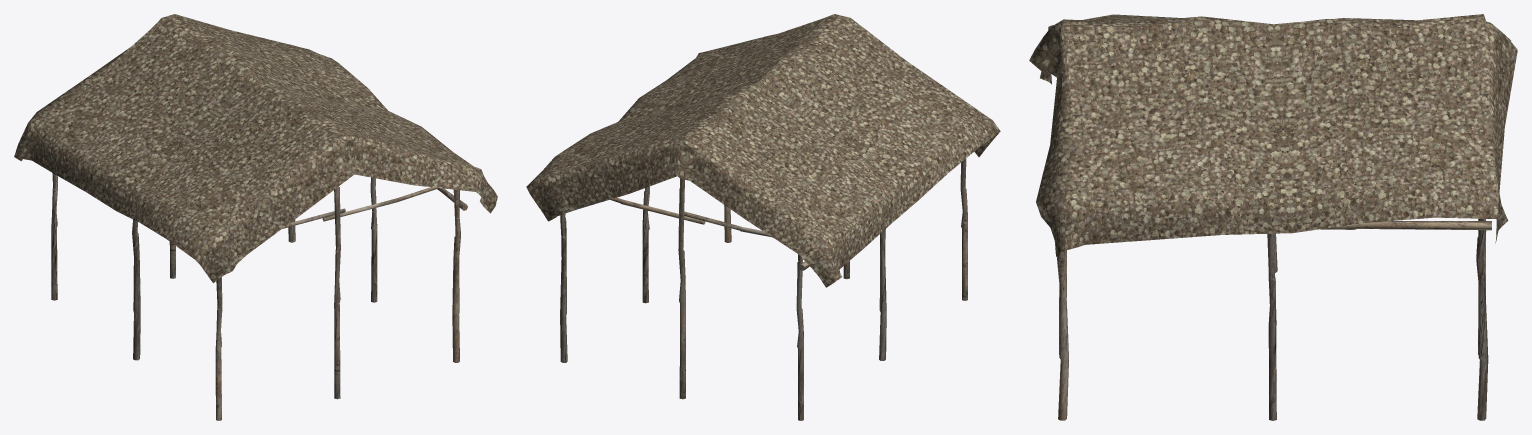
File: Cammo2.fbx
3 views of the same model, side by side, from view 1: azimuth 30°, elevation 25°; view 2: azimuth 150°, elevation 25°; view 3: azimuth 270°, elevation 25° (orthographic). The views are drawn at different scales.
Visible parts, largest first — view 1: polySurface107; view 2: polySurface107; view 3: polySurface107.
Boxes of the visible parts, bbox=[...] form: polySurface107: bbox=[14, 14, 497, 420]; polySurface107: bbox=[526, 14, 1000, 420]; polySurface107: bbox=[1029, 14, 1517, 420].
Size of the model in its own units: 7.64 by 5.96 by 7.89.
